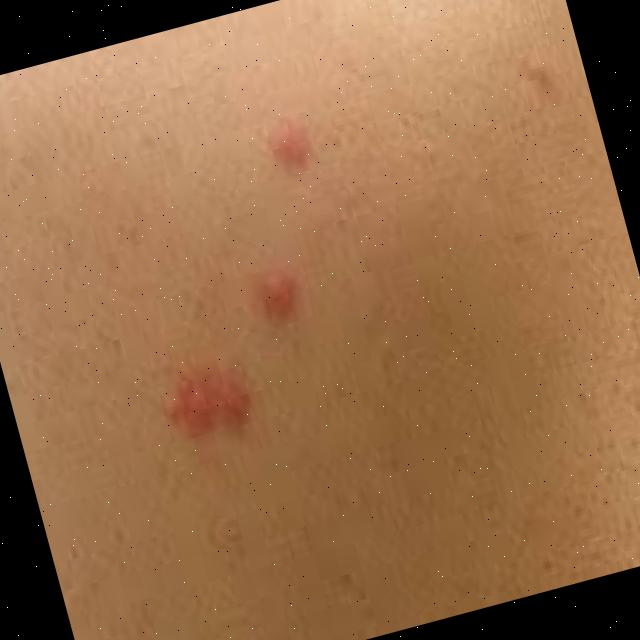tahta-kurusu: (133, 337, 264, 469), (235, 84, 350, 195), (239, 229, 341, 347)
